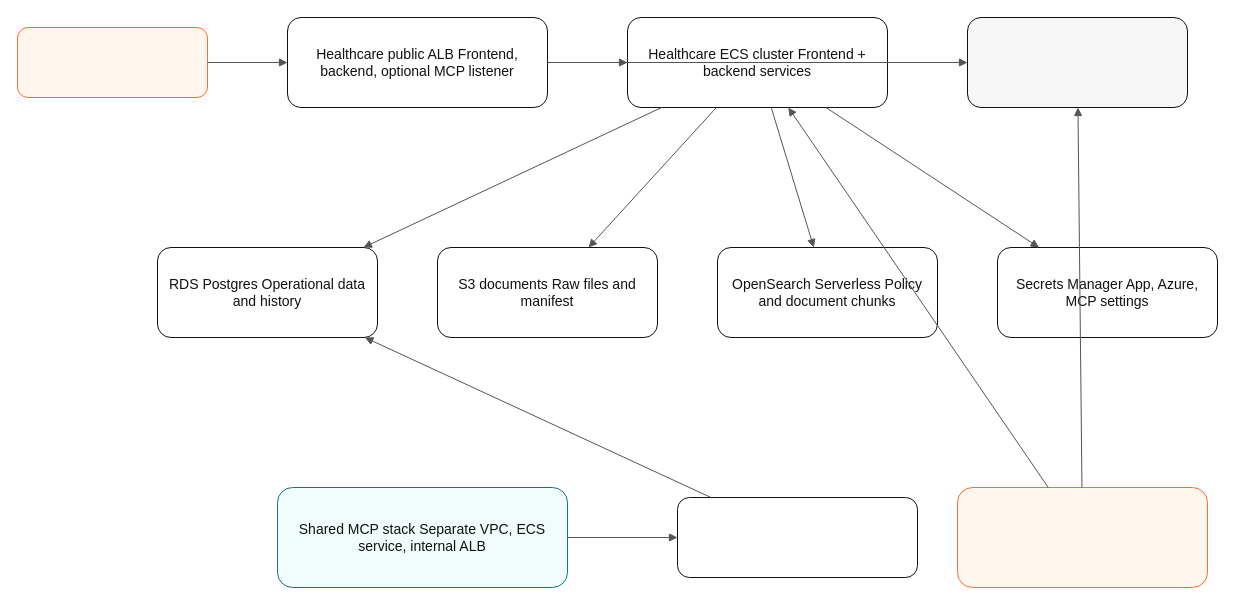
Image size: 1235x605. Some labels were removed from this diagram. Each missing label, with the centre of its shape:
"CodePipeline + CodeBuild Build images and update ECS" goes at (1082,537).
"Healthcare MCP service Same healthcare VPC" goes at (1077,62).
"Transit Gateway Private route between VPCs" goes at (797,537).
"Users and Twilio" goes at (112,62).
